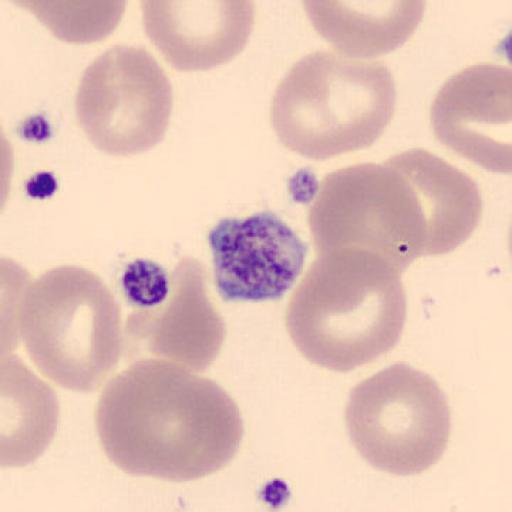Platelet: (205, 207, 310, 305), (116, 254, 173, 310), (22, 166, 62, 202)
RBC: (91, 358, 245, 485), (284, 246, 410, 375), (306, 158, 428, 282), (268, 49, 399, 163), (16, 262, 124, 396), (132, 368, 246, 484), (342, 360, 453, 478), (72, 41, 175, 159), (378, 145, 484, 258), (142, 256, 228, 374), (428, 62, 512, 176), (139, 0, 257, 73), (299, 0, 429, 59), (1, 352, 60, 469), (11, 0, 131, 45), (0, 256, 36, 404), (0, 253, 34, 362), (344, 0, 428, 23), (0, 124, 18, 226)
